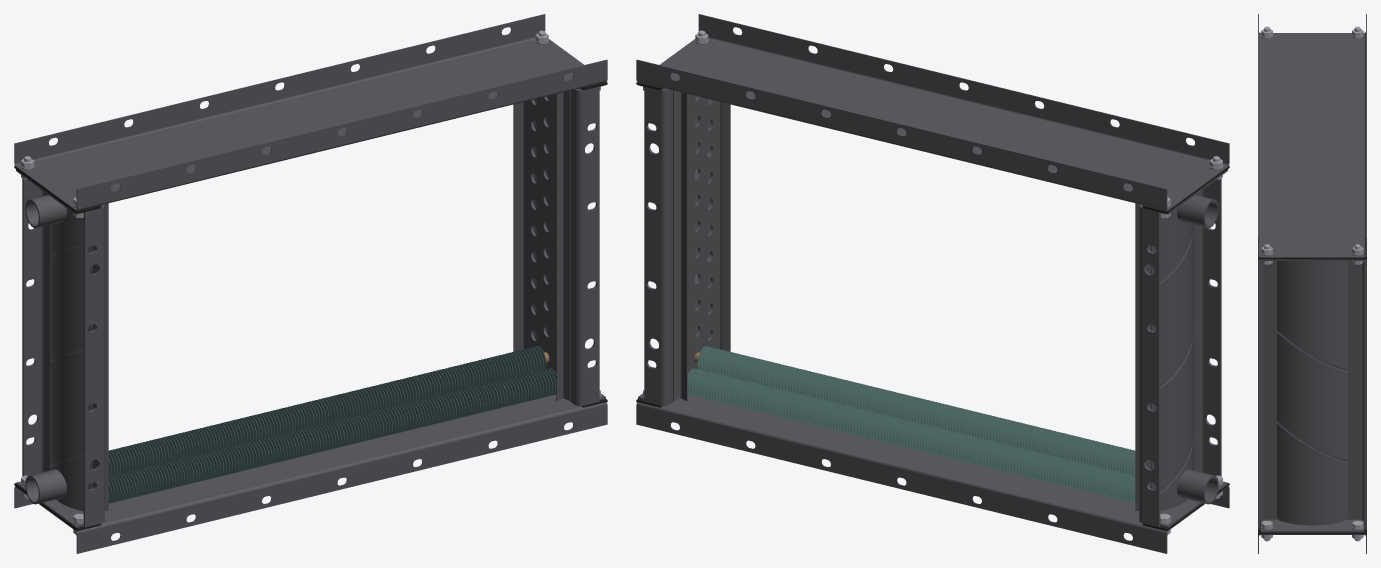
The model's file is ksk-3-8.glb.
The picture shows the model from 3 angles, left to right: view 1: azimuth 30°, elevation 25°; view 2: azimuth 150°, elevation 25°; view 3: azimuth 270°, elevation 25°; orthographic projection. The views are drawn at different scales.
Visible parts, largest first — view 1: ksk-3-8; view 2: ksk-3-8; view 3: ksk-3-8.
Part boxes in pixels (x1=…): ksk-3-8: x1=14, y1=14, x2=607, y2=553; ksk-3-8: x1=636, y1=14, x2=1229, y2=553; ksk-3-8: x1=1258, y1=14, x2=1366, y2=553.
Size of the model in its own units: 0.9 by 0.577 by 0.18.
